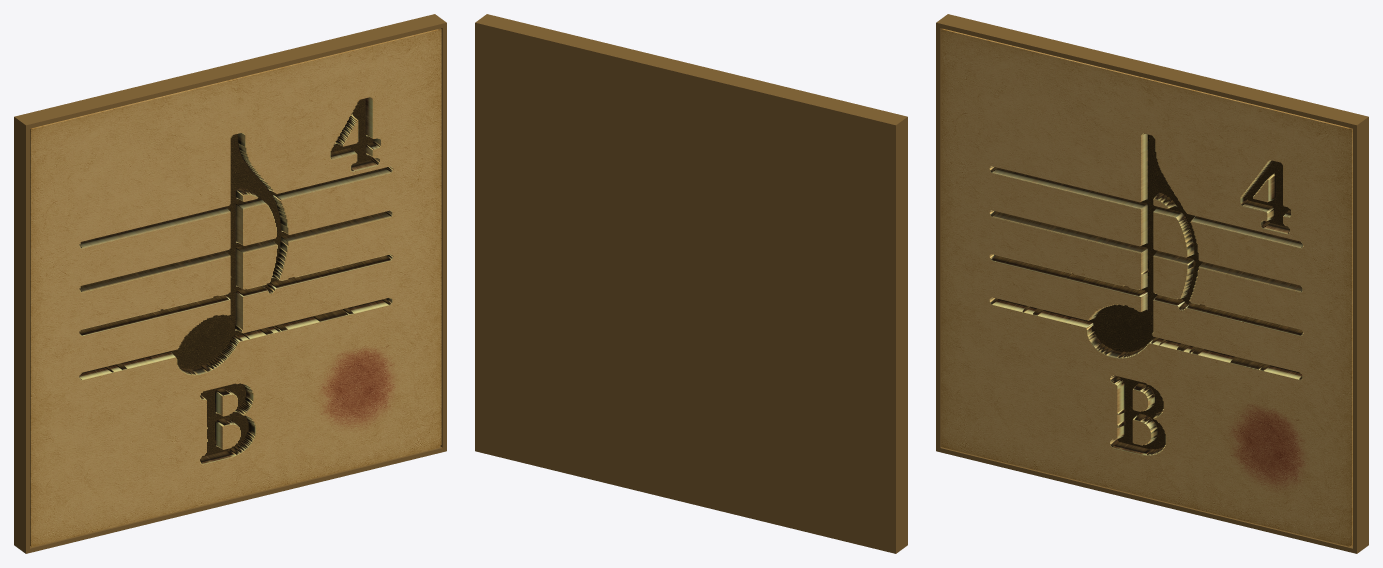
Rendered from note4b.fbx.
The picture shows the model from 3 angles, left to right: view 1: azimuth 30°, elevation 25°; view 2: azimuth 150°, elevation 25°; view 3: azimuth 330°, elevation 25°; orthographic projection.
Parts seen in each view (by area): view 1: meshes[0]; view 2: meshes[0]; view 3: meshes[0].
Part boxes in pixels (x1,y1,x2,y2): meshes[0]: [14, 14, 446, 553]; meshes[0]: [475, 14, 907, 553]; meshes[0]: [936, 14, 1368, 553].
Size of the model in its own units: 410 by 399 by 20.
